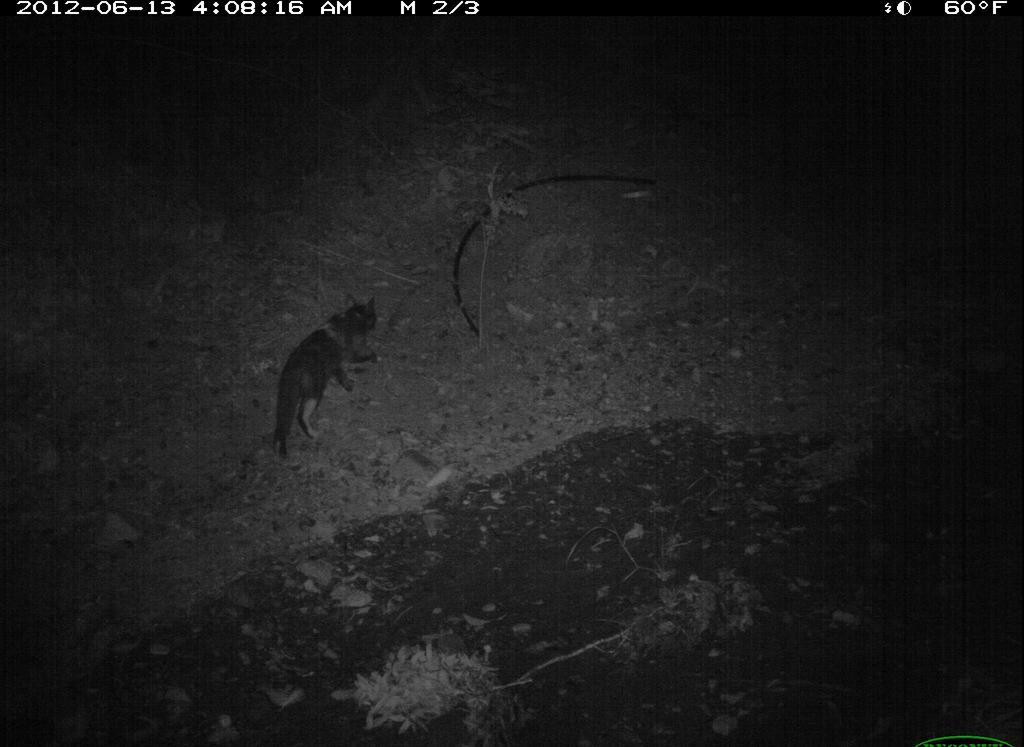cat: (265, 290, 395, 466)
